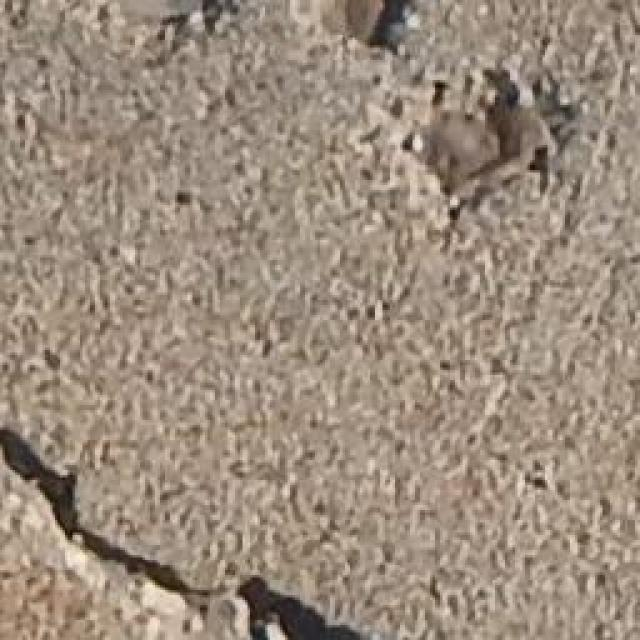concrete-crack: (0, 416, 380, 640), (403, 64, 597, 228), (334, 0, 437, 55)
